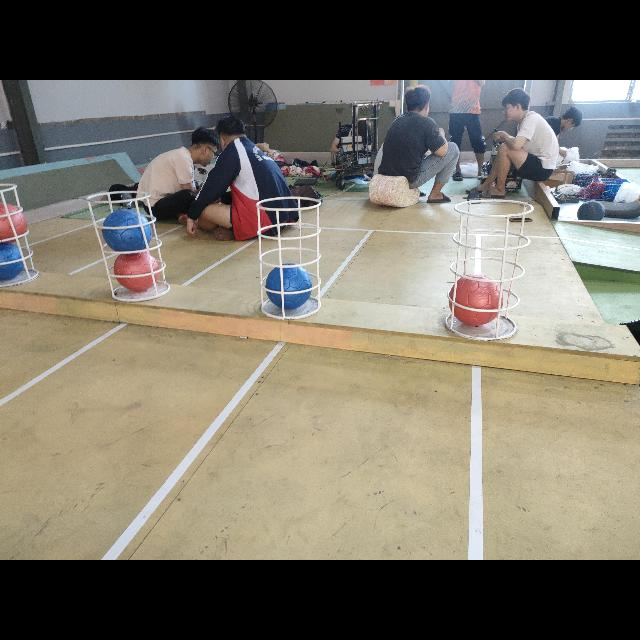B: (102, 209, 152, 253), (266, 262, 312, 308), (0, 241, 24, 281)
R: (448, 274, 504, 326), (114, 251, 158, 291), (0, 202, 28, 244)
